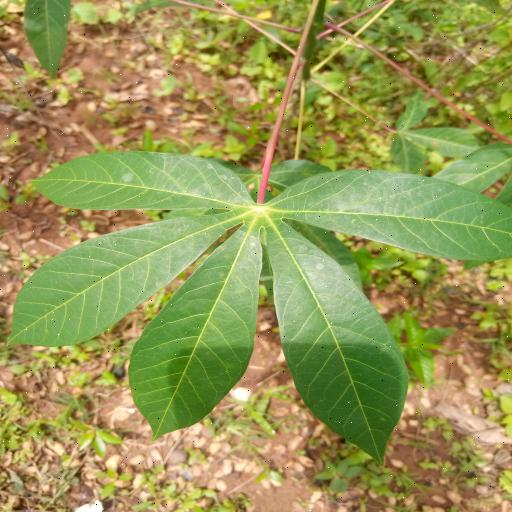Cassava_Healthy: (11, 142, 512, 470)
